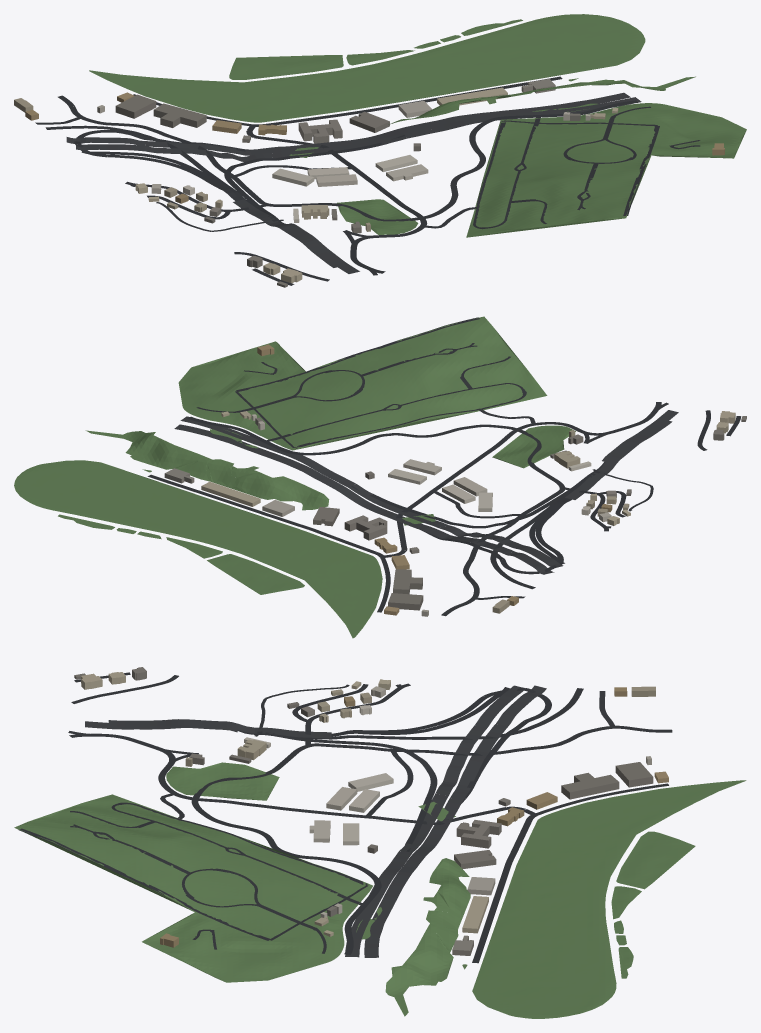
File: tile_6_9.glb
The picture shows the model from 3 angles, top to bottom: view 1: azimuth 30°, elevation 25°; view 2: azimuth 150°, elevation 25°; view 3: azimuth 270°, elevation 25°; orthographic projection. The views are drawn at different scales.
Visible parts, largest first — view 1: grn_6_9, road_6_9, bld_6_9; view 2: grn_6_9, road_6_9, bld_6_9; view 3: grn_6_9, road_6_9, bld_6_9.
Boxes of the visible parts, x1,y1,x2,y2 form: grn_6_9: [89, 14, 746, 237]; road_6_9: [35, 76, 700, 285]; bld_6_9: [14, 78, 724, 287]; grn_6_9: [14, 316, 575, 638]; road_6_9: [147, 317, 741, 616]; bld_6_9: [164, 344, 746, 616]; grn_6_9: [14, 762, 746, 1018]; road_6_9: [19, 672, 672, 963]; bld_6_9: [74, 667, 668, 955].
Bounding box in the file's own units: 956 × 84.5 × 975.
